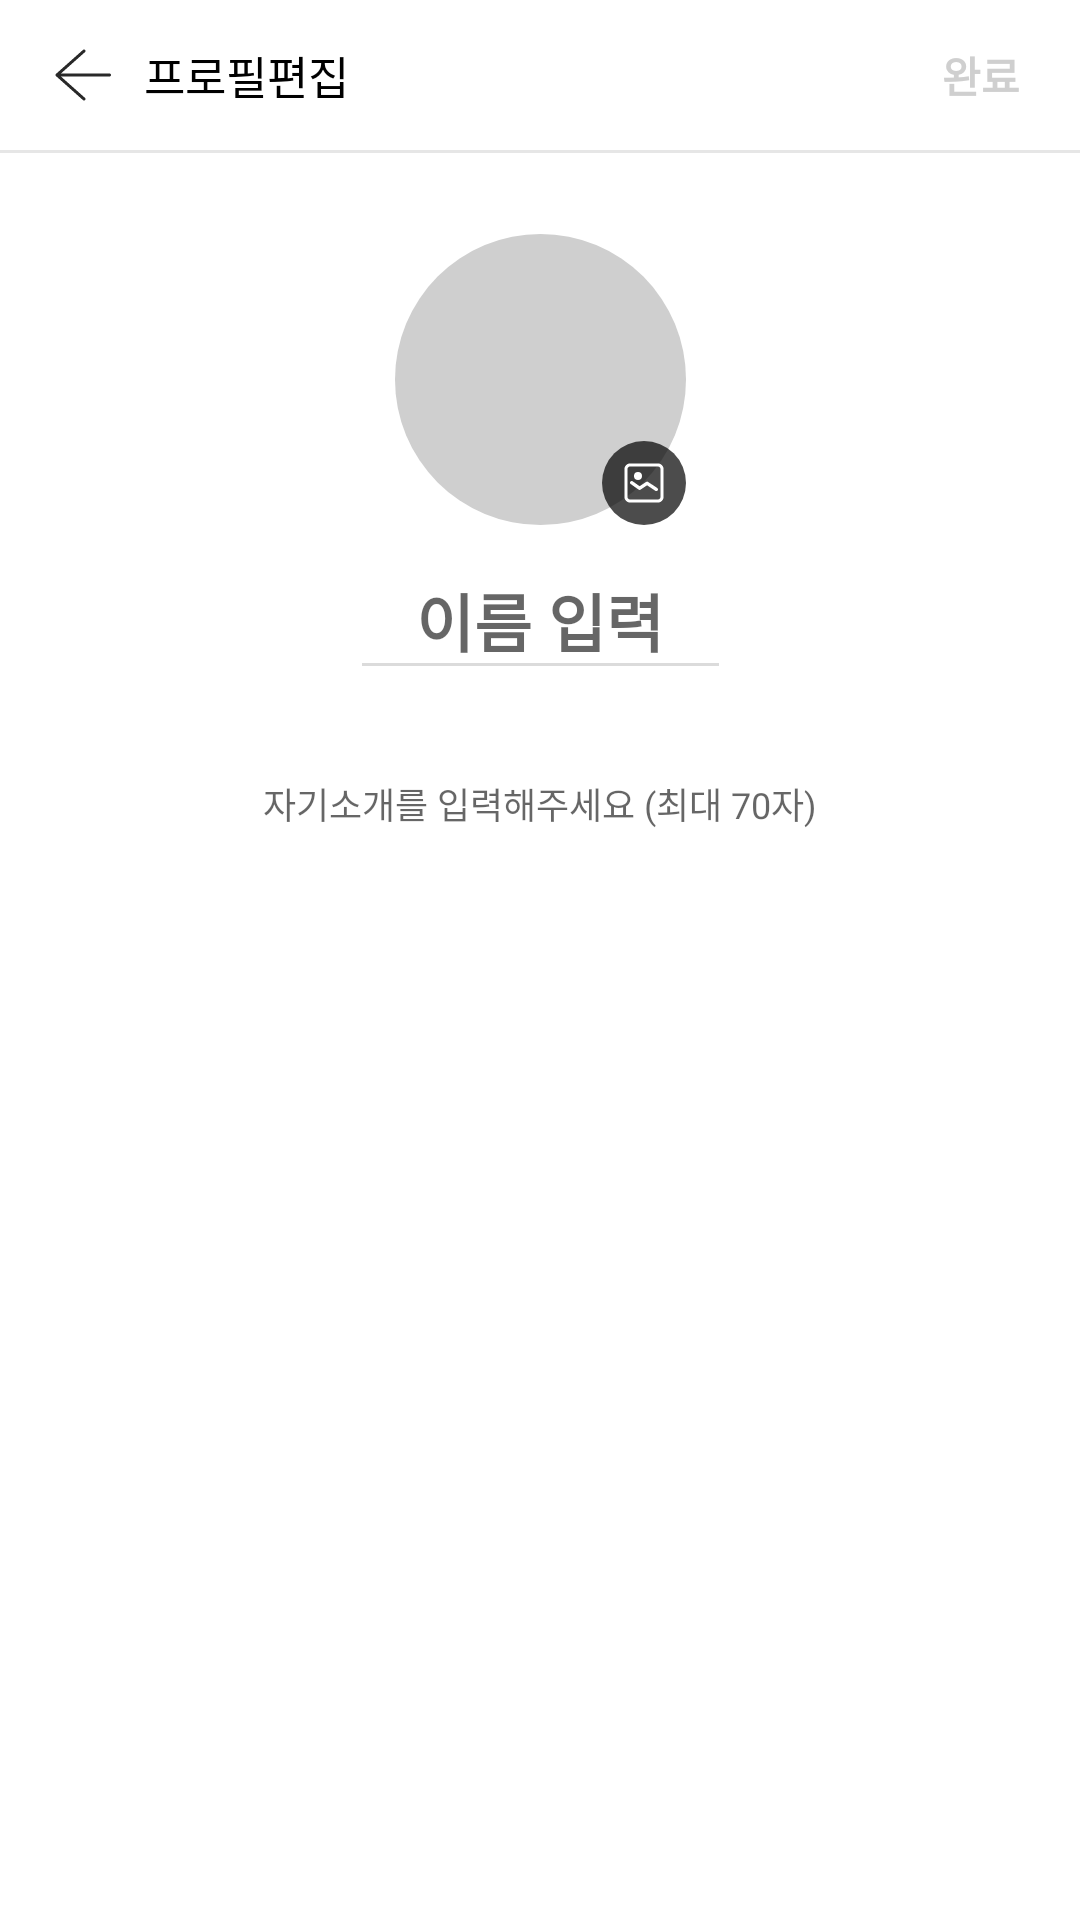

Named icons in this screenshot (1080px x 1920px) and their bounding boxes, box=[x1, y1, x2, y2]:
back: box=[55, 49, 111, 101]
content photo: box=[620, 459, 664, 503]
